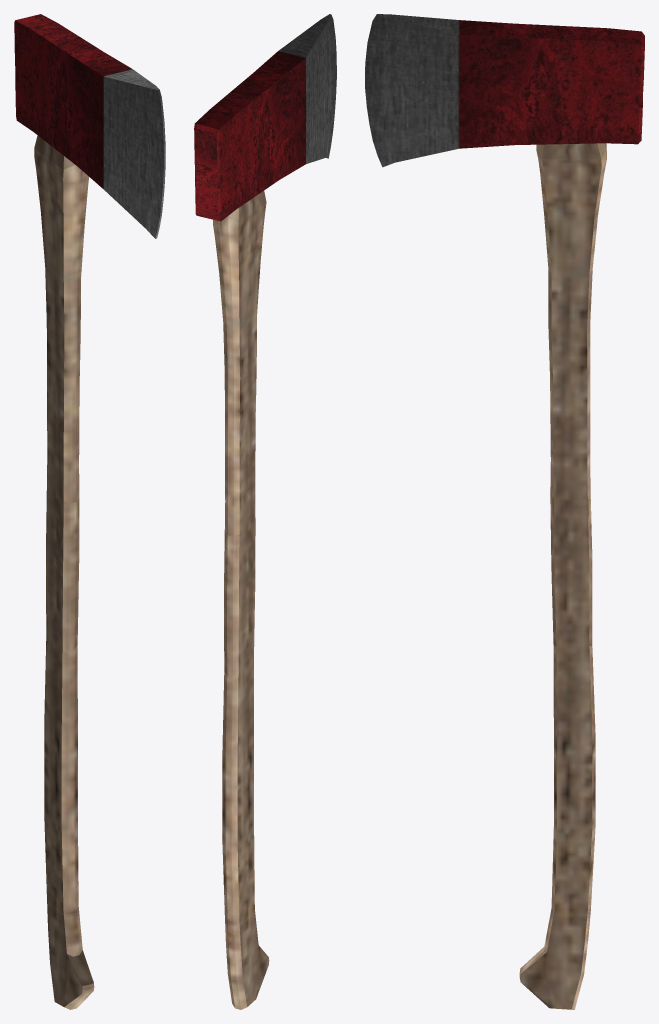
File: hacha.obj
3 renders of one model, left to right at view 1: azimuth 30°, elevation 25°; view 2: azimuth 150°, elevation 25°; view 3: azimuth 270°, elevation 25°, orthographic. The views are drawn at different scales.
Visible parts, largest first — view 1: hacha; view 2: hacha; view 3: hacha.
Boxes of the visible parts, x1=… form: hacha: x1=14, y1=14, x2=165, y2=1009; hacha: x1=194, y1=14, x2=336, y2=1009; hacha: x1=365, y1=14, x2=644, y2=1009.
Bounding box in the file's own units: 0.4358 × 13.87 × 3.54.
